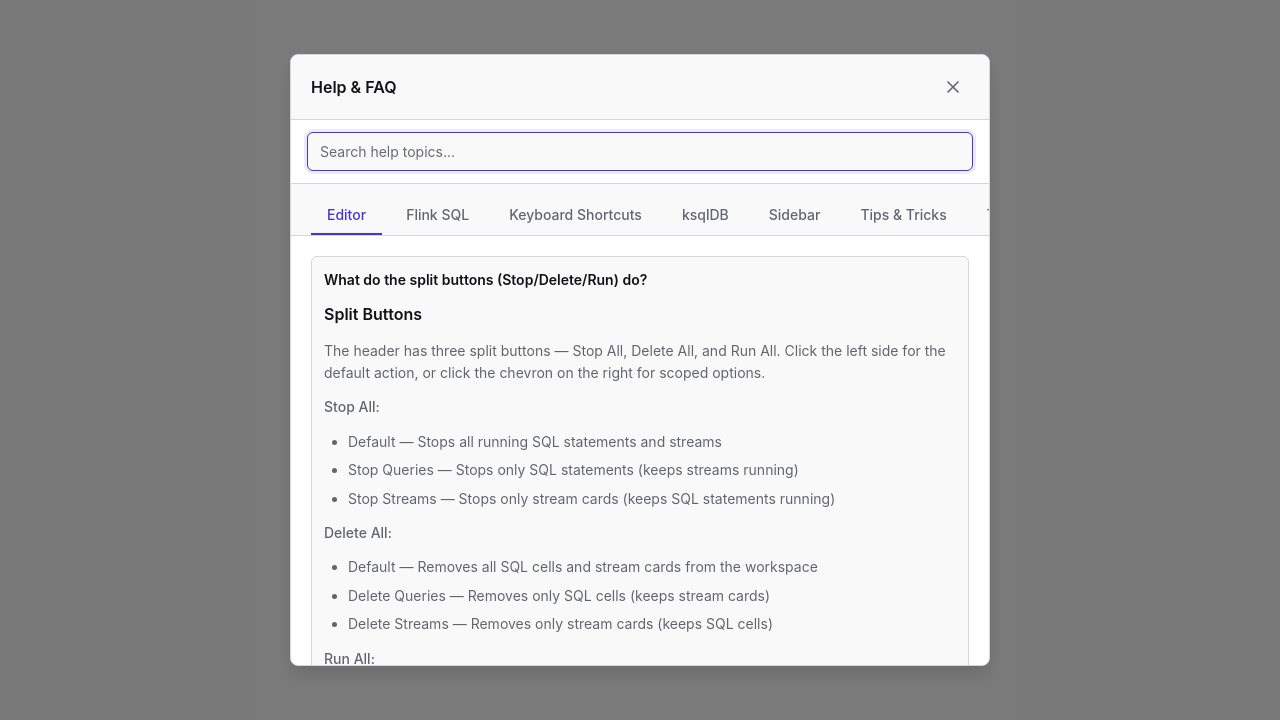
[@help-search] HelpPanel search filtering › should filter topics by title (case-insensitive)
In the field with placeholder "Search help topics...": (640, 152) left=307, top=132, right=973, bottom=171, type "cardinality"
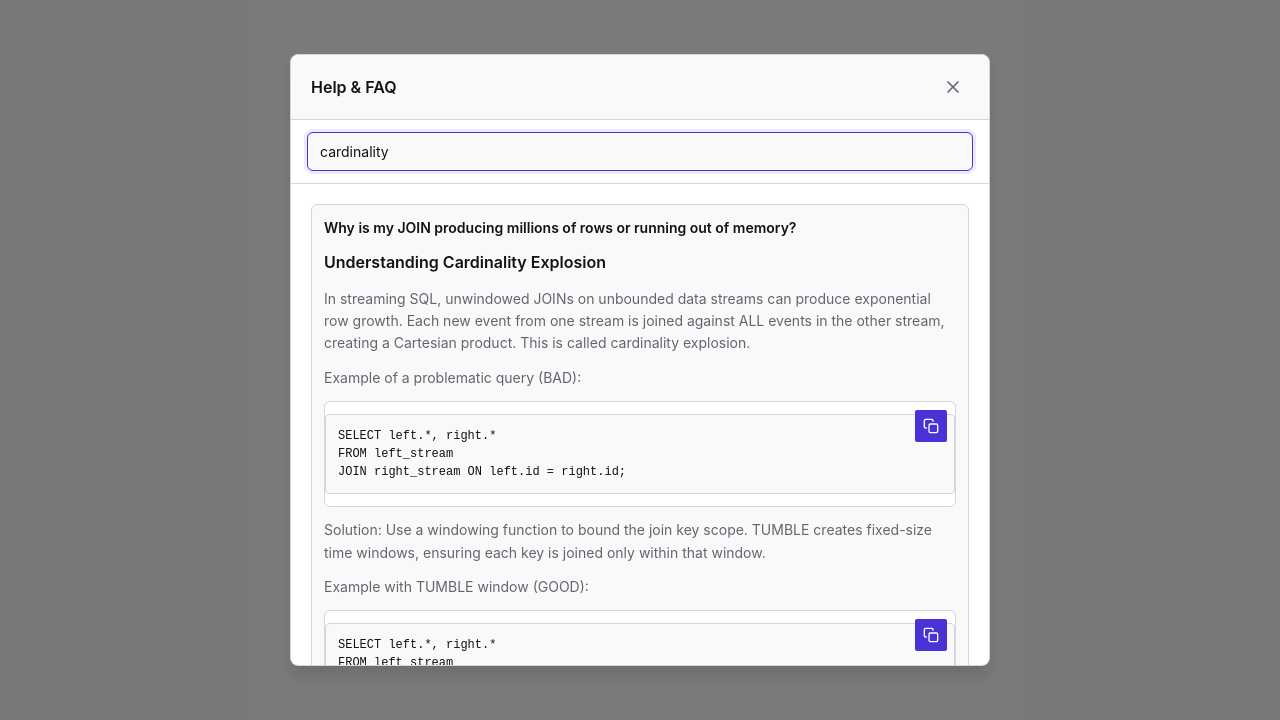
Expected: the heading "Why is my JOIN producing millions of rows" is shown, left=324, top=219, right=796, bottom=236
